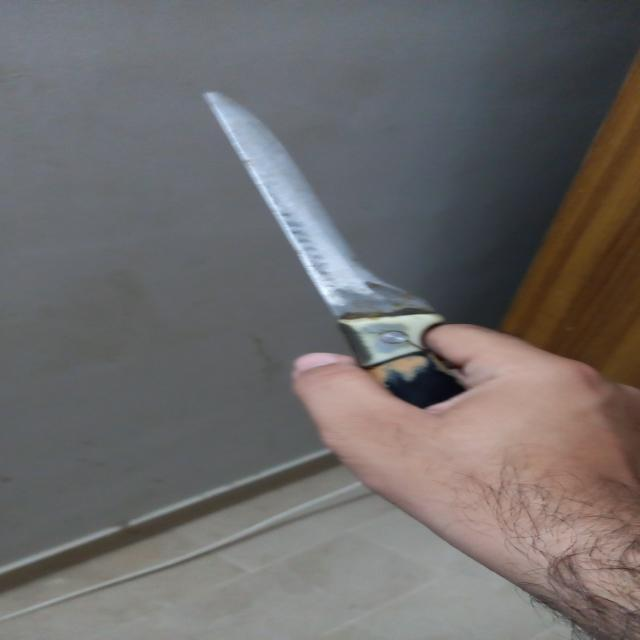knife: (182, 61, 522, 461)
